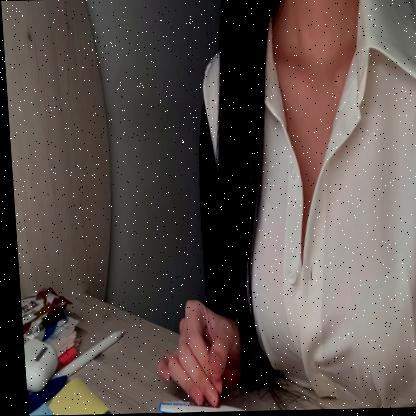streamer: (132, 0, 416, 414)
